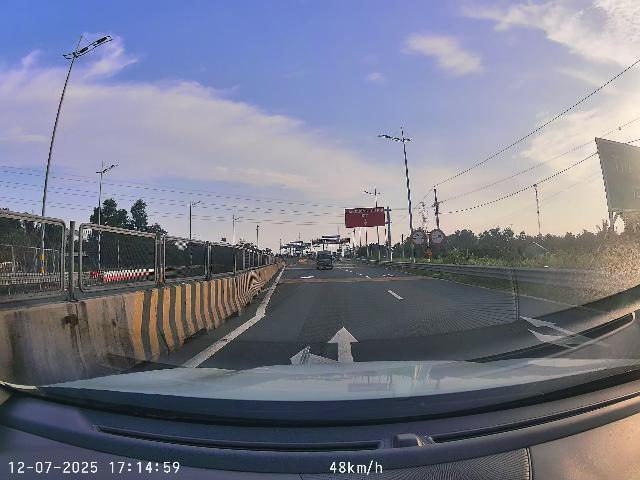125-cam-vuot: (430, 229, 445, 245)
